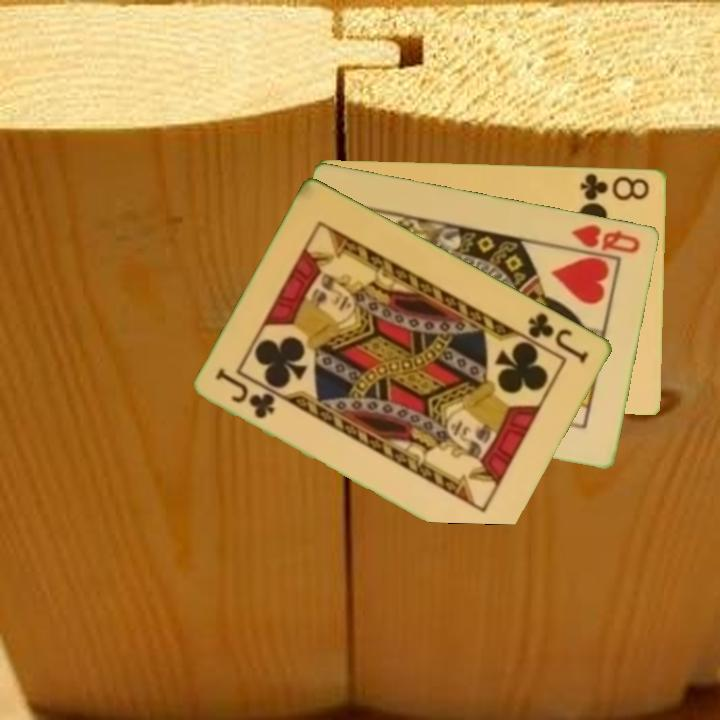8c: (577, 169, 653, 203)
Jc: (525, 309, 592, 366), (212, 365, 279, 422)
Qh: (568, 220, 644, 256)
